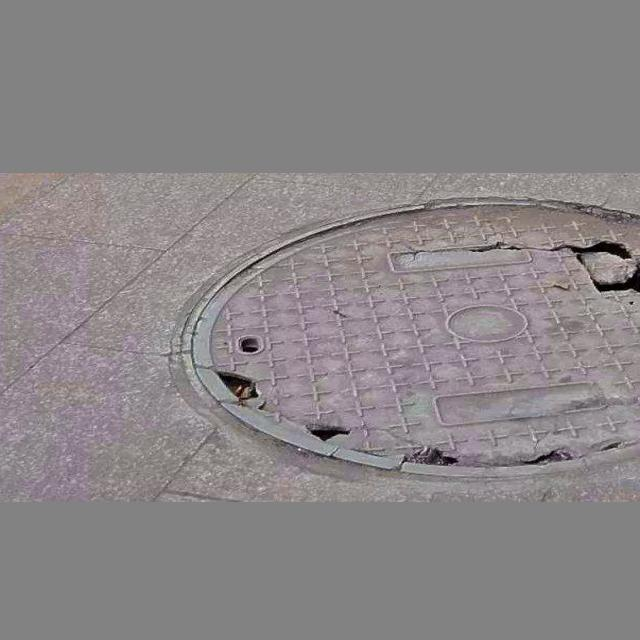broke: (181, 199, 640, 479)
